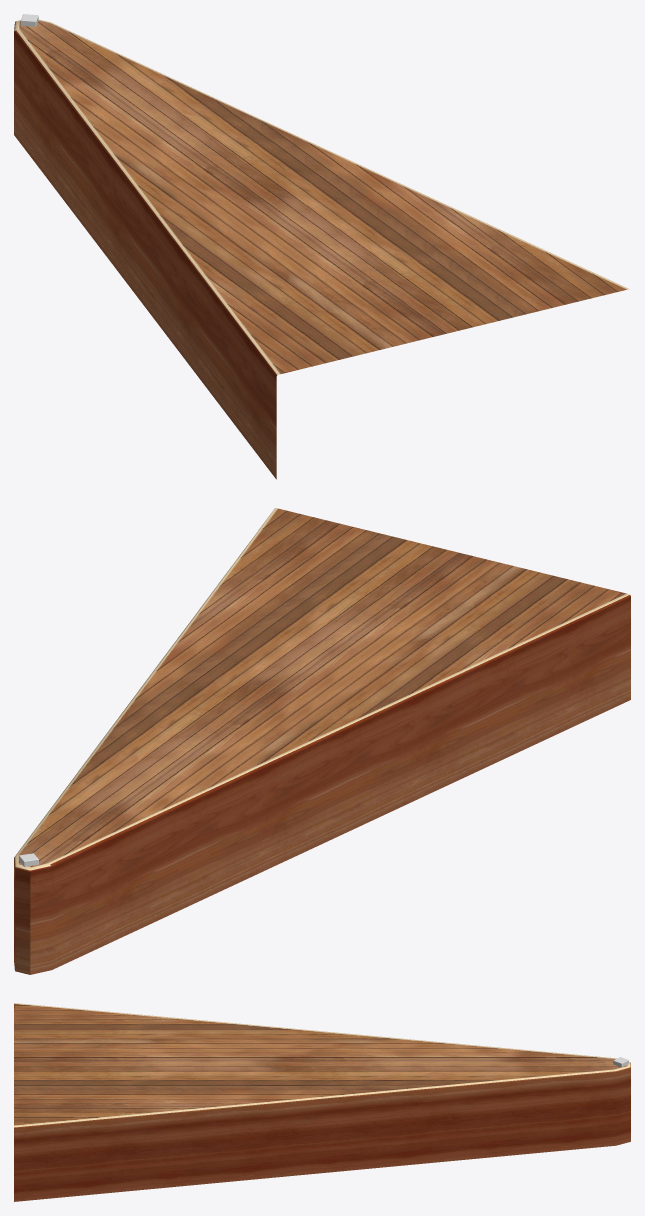
Rendered from Boat_03.glb.
The picture shows the model from 3 angles, top to bottom: view 1: azimuth 30°, elevation 25°; view 2: azimuth 150°, elevation 25°; view 3: azimuth 270°, elevation 25°; orthographic projection. The views are drawn at different scales.
Parts seen in each view (by area): view 1: Bateau; view 2: Bateau; view 3: Bateau.
Part boxes in pixels (x1,y1,x2,y2): Bateau: (14,14,629,479); Bateau: (14,508,630,974); Bateau: (14,1003,630,1201).
Bounding box in the file's own units: 3.3 × 0.9769 × 6.91.
Materials: 1 (1 with a texture image).
